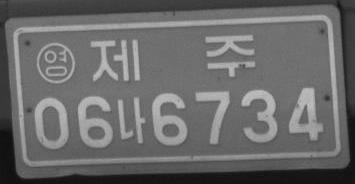0: (32, 96, 68, 150)
3: (240, 88, 278, 144)
4: (288, 85, 324, 140)
6: (76, 94, 114, 150), (150, 91, 188, 147)
7: (194, 89, 231, 144)
나: (115, 95, 145, 144)
영: (35, 41, 76, 85)
제주_D: (89, 33, 255, 83)
